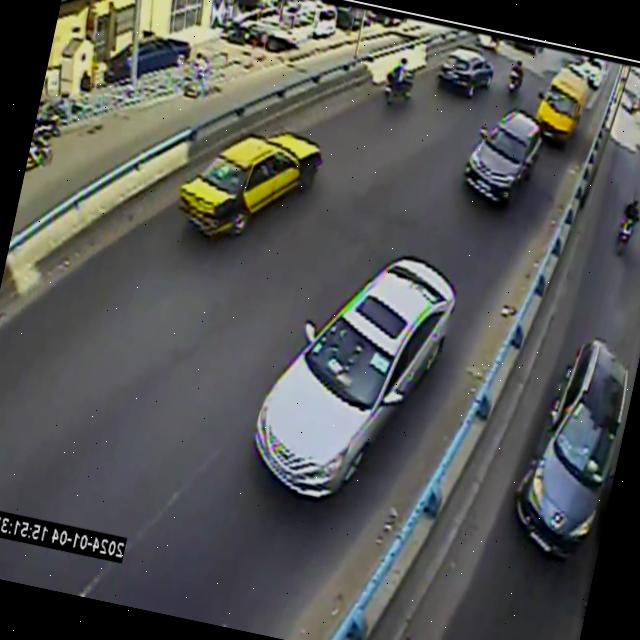car: (254, 256, 456, 498), (179, 133, 322, 235), (464, 109, 542, 202), (535, 67, 588, 145), (535, 67, 588, 143), (437, 46, 494, 98)
